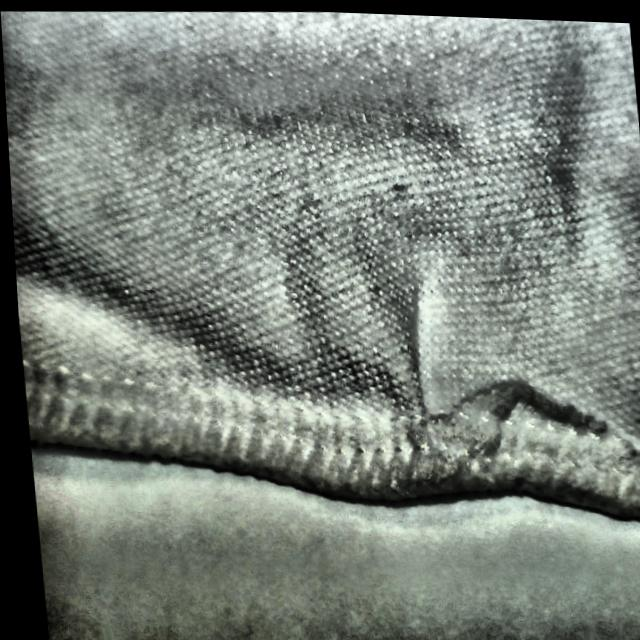seam: (375, 316, 611, 494)
